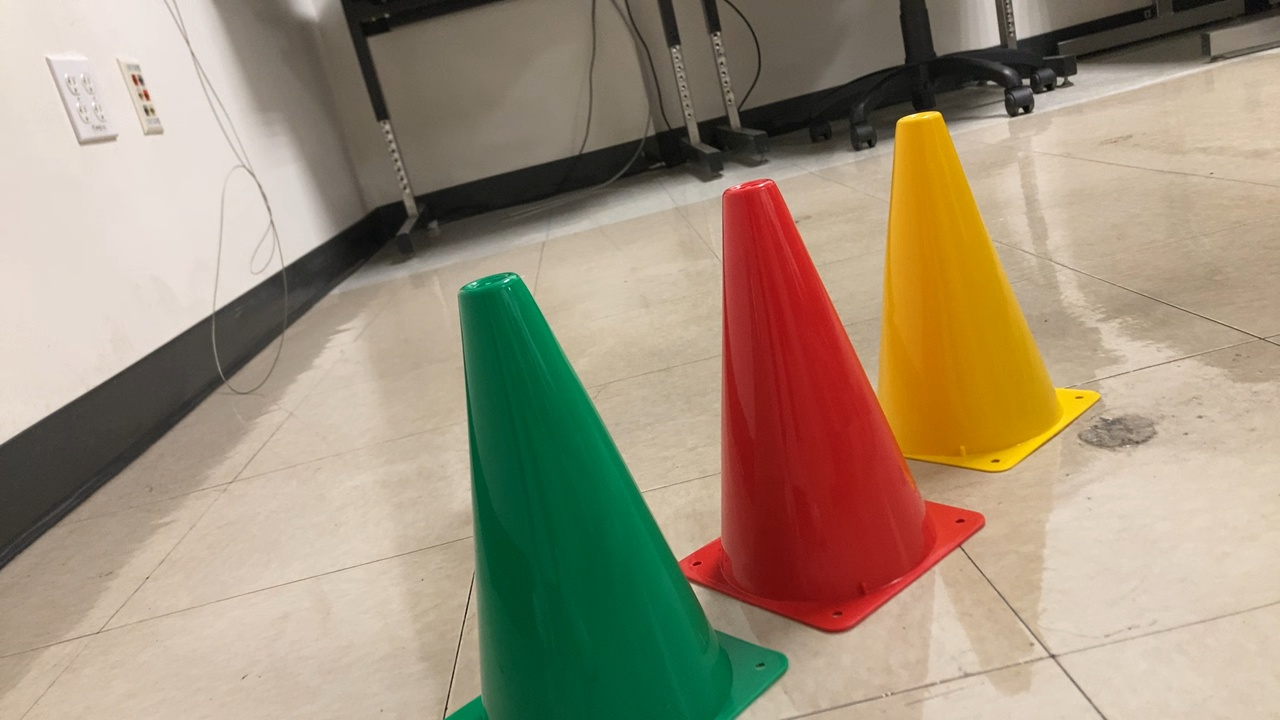green_cone: (425, 273, 790, 720)
red_cone: (672, 177, 990, 636)
yellow_cone: (859, 105, 1107, 473)
